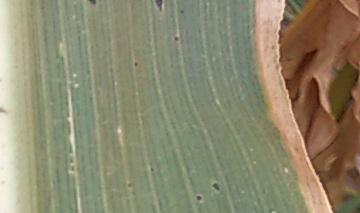tarspot: (208, 180, 222, 192), (151, 1, 163, 12), (1, 105, 10, 116), (84, 1, 97, 7), (194, 194, 203, 202), (126, 182, 133, 190), (132, 61, 139, 68), (178, 8, 184, 16), (173, 35, 179, 42), (148, 166, 154, 172), (274, 1, 281, 4)
